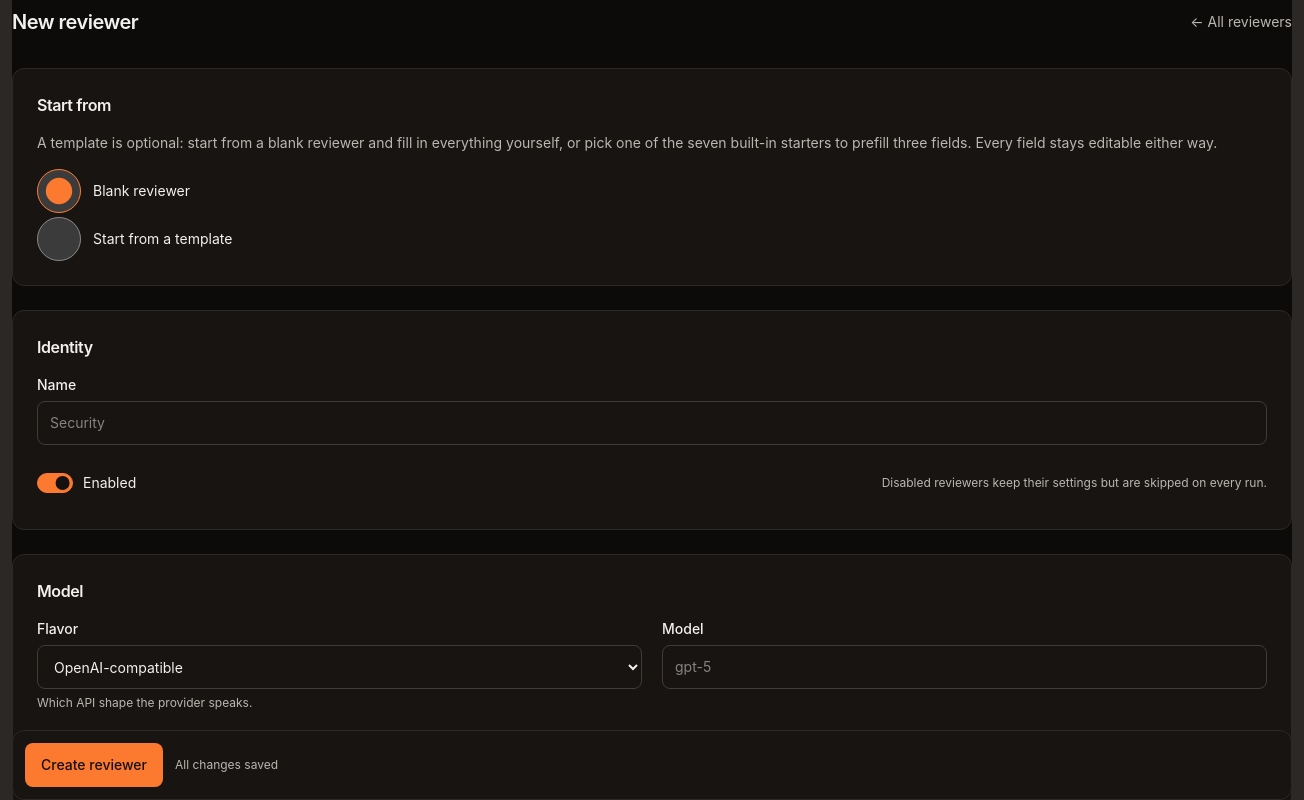
Test: new reviewer starter choice › fills name, instructions and rules from the template and leaves the model and base URL alone
Click the radio button labelled "Start from a template" at (59, 239), box [37,217,81,261]
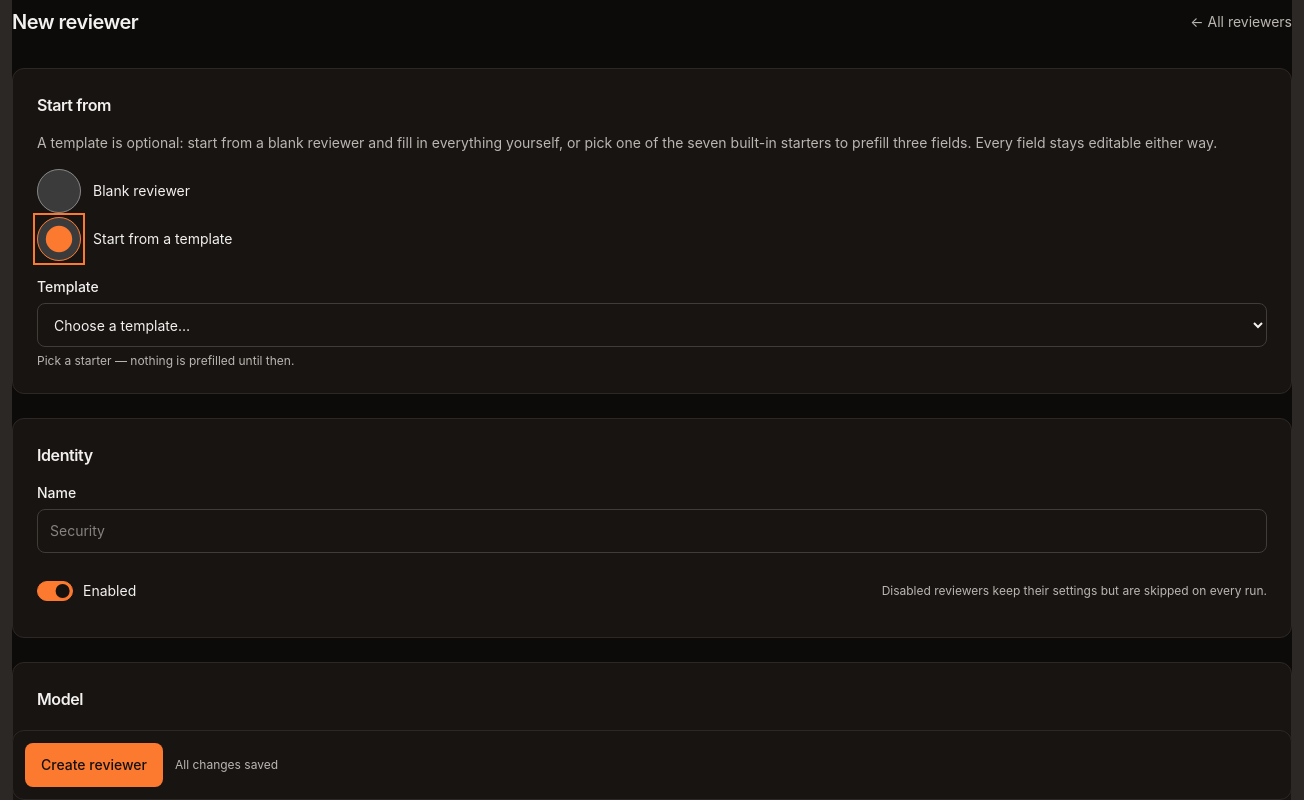
Select "Security" in the dropdown labelled "Template" at (652, 325), box [37,303,1267,347]
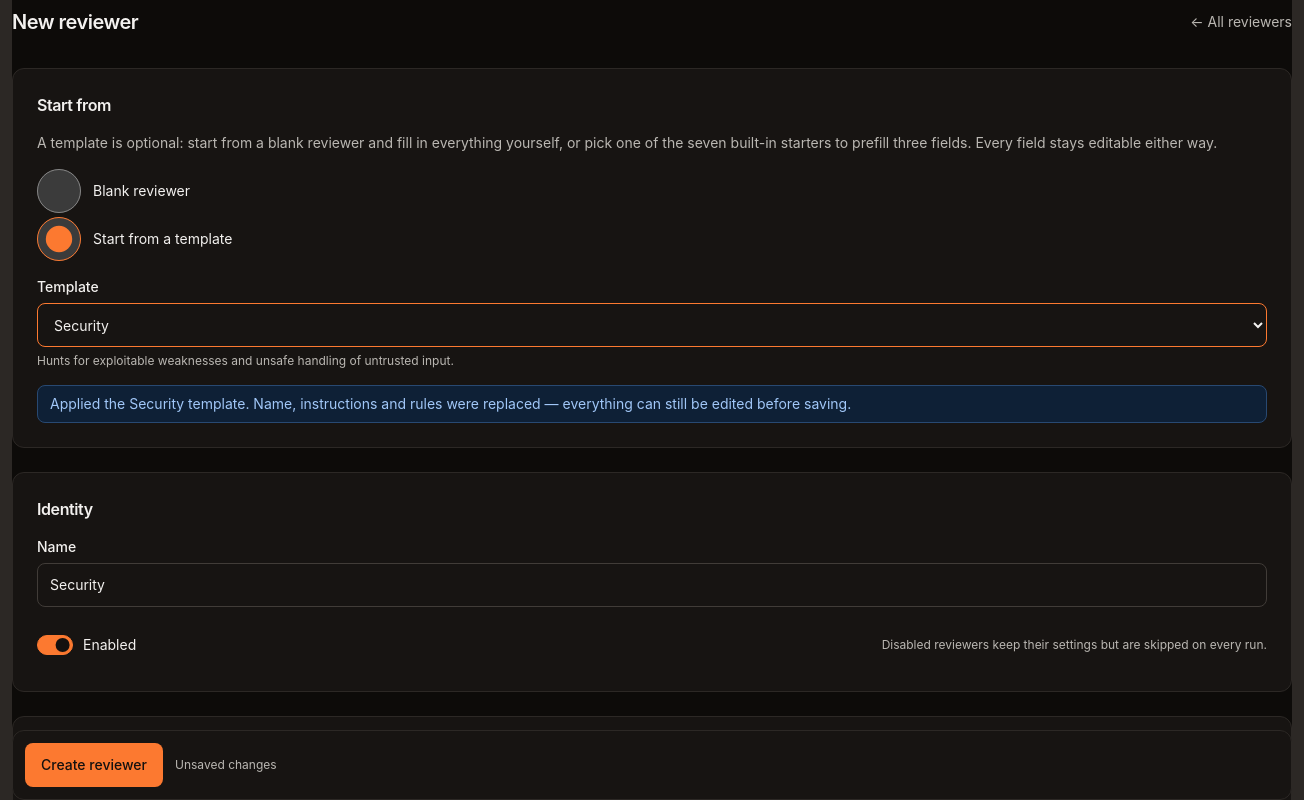
Now the field labelled "Name" holds "Security", box [37,563,1267,607]
Now the text "Applied the Security template" is shown, box [50,395,851,412]
